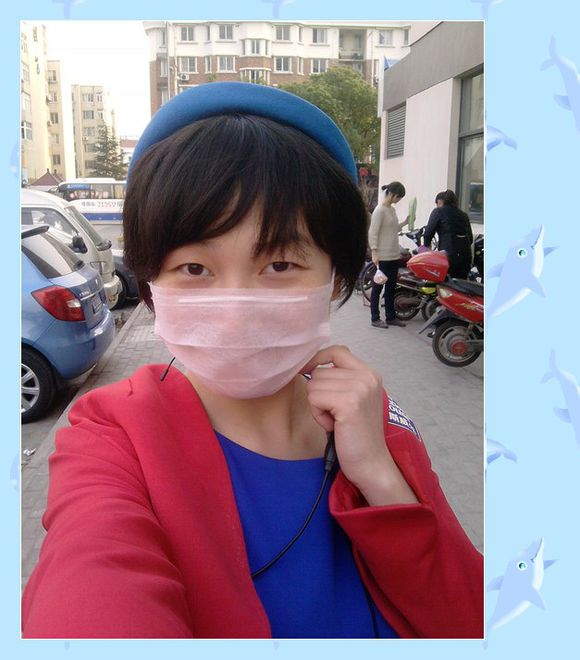face_mask: (151, 176, 333, 397)
